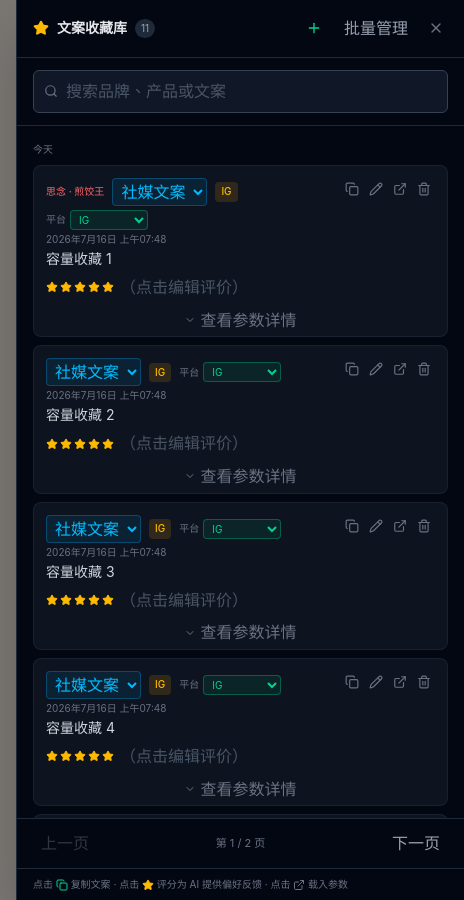
Test: 收藏库 Pro 解锁收纳 › Pro 可通过分页访问全部收藏且不显示锁定提示
Click the button "下一页" at (416, 843), box [384,827,448,860]
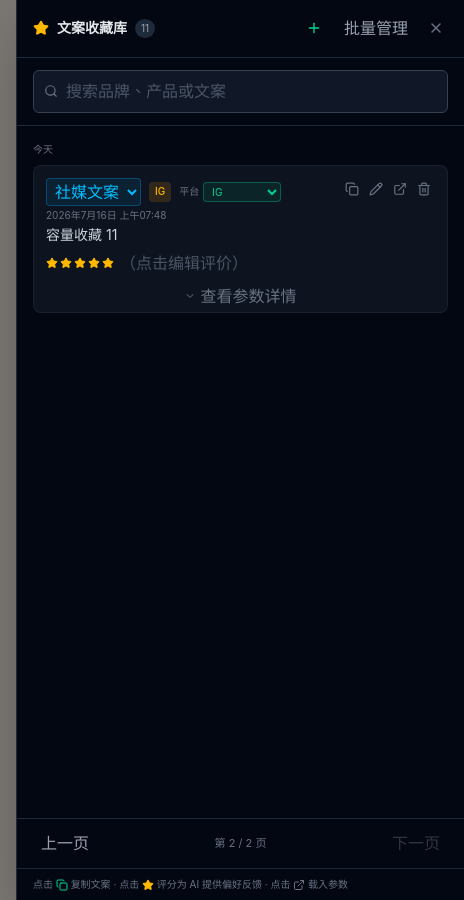
Check: the text "容量收藏 11" is shown, box [46,226,117,243]
